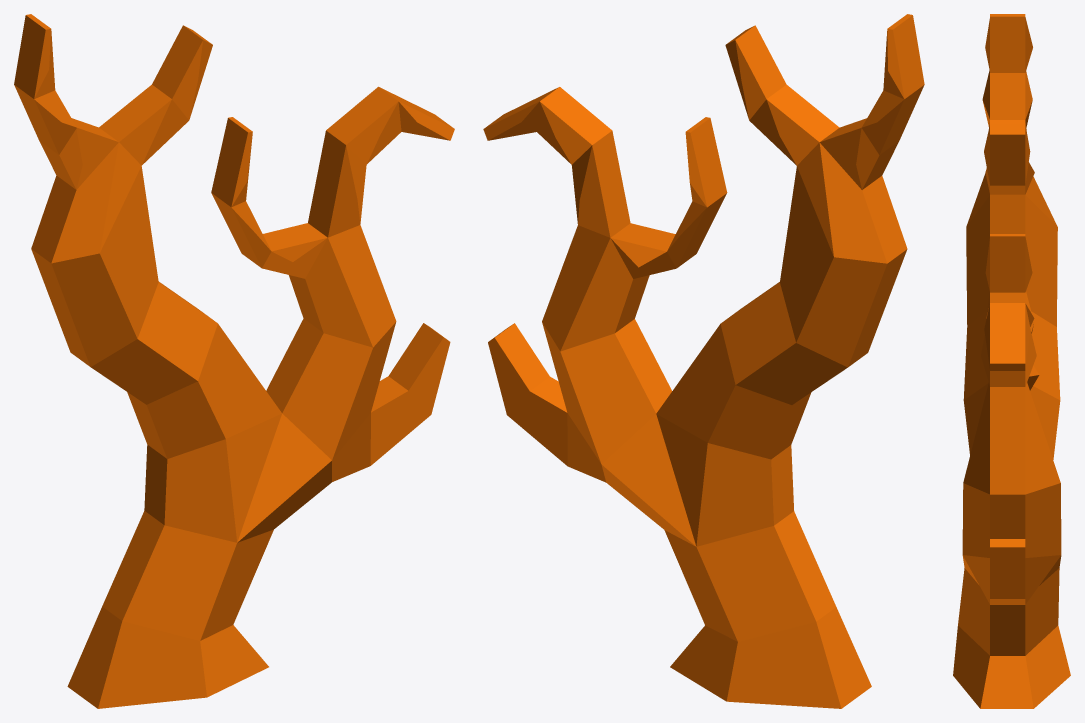
Rendered from JIBAI.fbx.
3 renders of one model, left to right at view 1: azimuth 30°, elevation 25°; view 2: azimuth 150°, elevation 25°; view 3: azimuth 270°, elevation 25°, orthographic. The views are drawn at different scales.
Parts seen in each view (by area): view 1: Plane009; view 2: Plane009; view 3: Plane009.
Part boxes in pixels (x1,y1,x2,y2): Plane009: (14, 14, 454, 708); Plane009: (483, 14, 924, 708); Plane009: (953, 14, 1070, 708).
Size of the model in its own units: 4.43 by 6.9 by 1.23.
